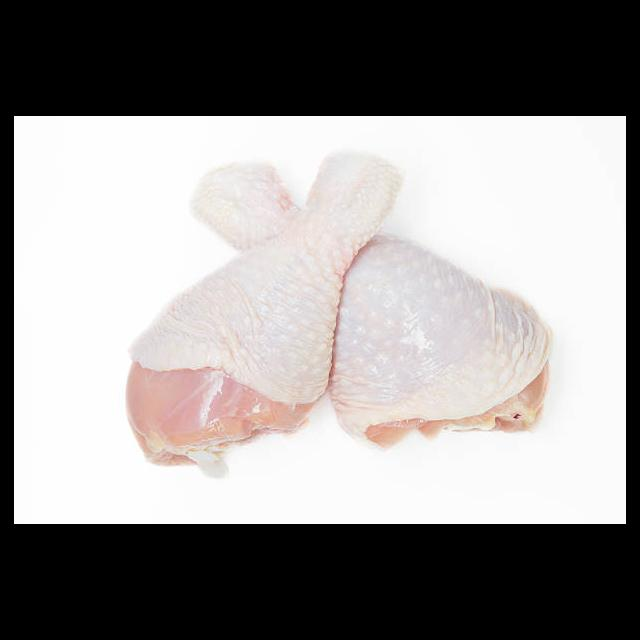chicken: (189, 159, 554, 453), (124, 155, 404, 480)
